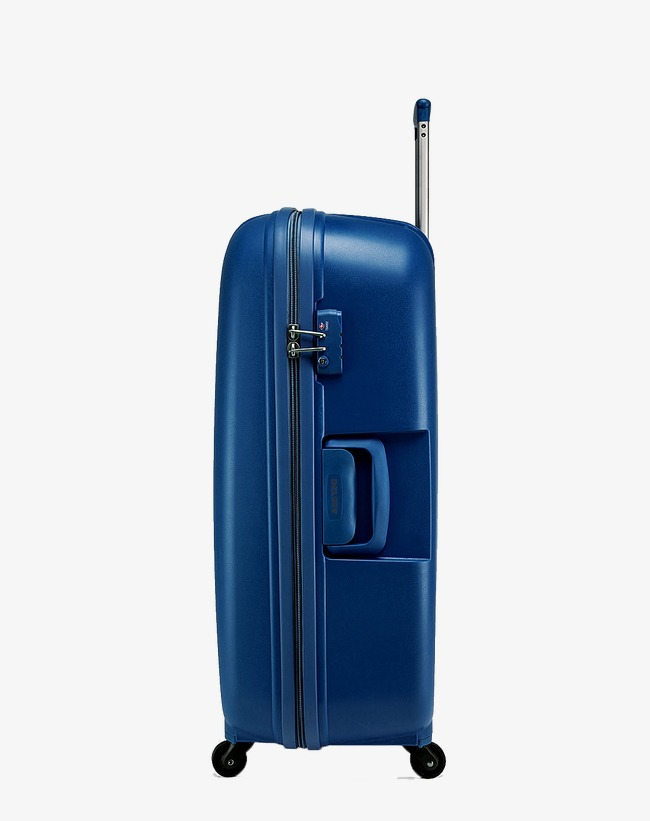box: (212, 208, 436, 751)
handle: (320, 435, 391, 556)
lock: (297, 308, 343, 378)
wheel: (211, 737, 248, 777), (410, 742, 447, 779)
